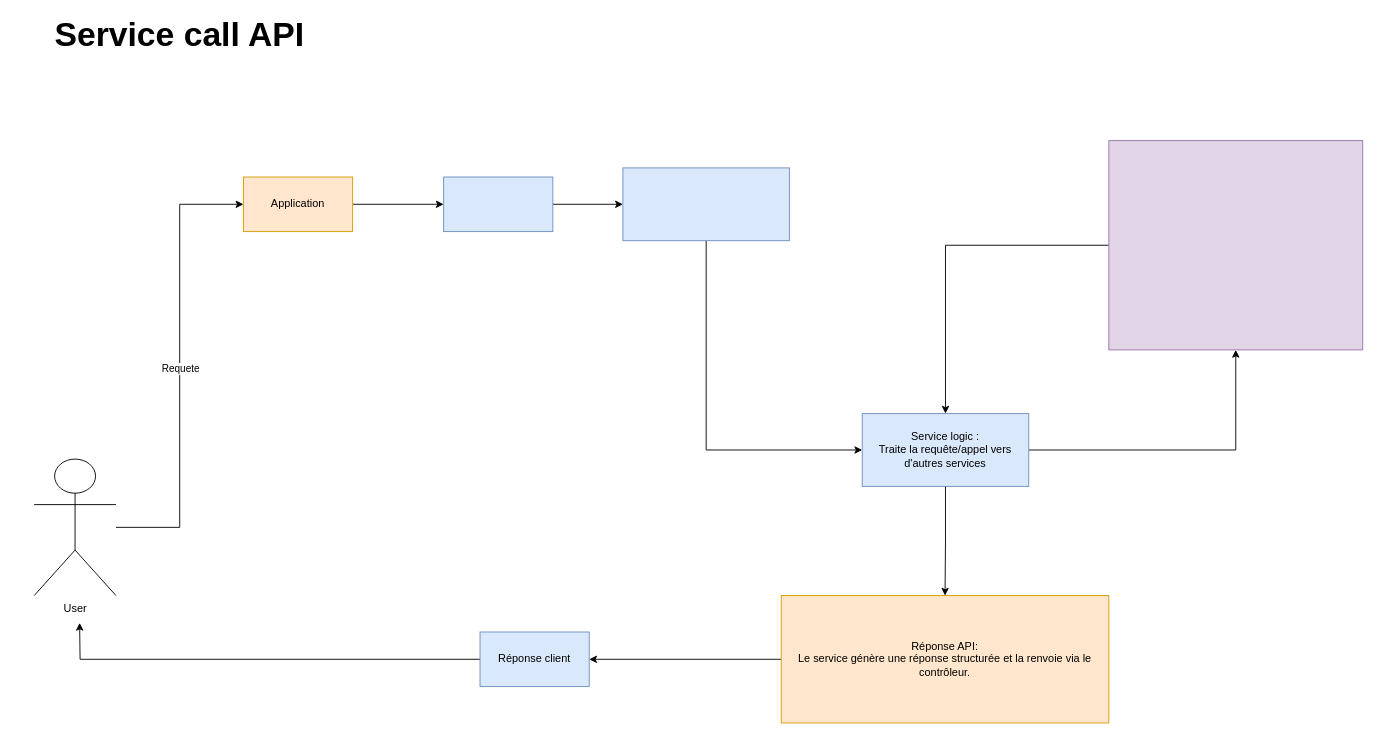
This 1379x739 diagram has some shape labels left out. Each missing label, with the centre of its shape:
BDD: point (1235, 245)
Controller : Gère la logique de traitement de la requête: point (705, 204)
Routeur API: point (498, 204)
